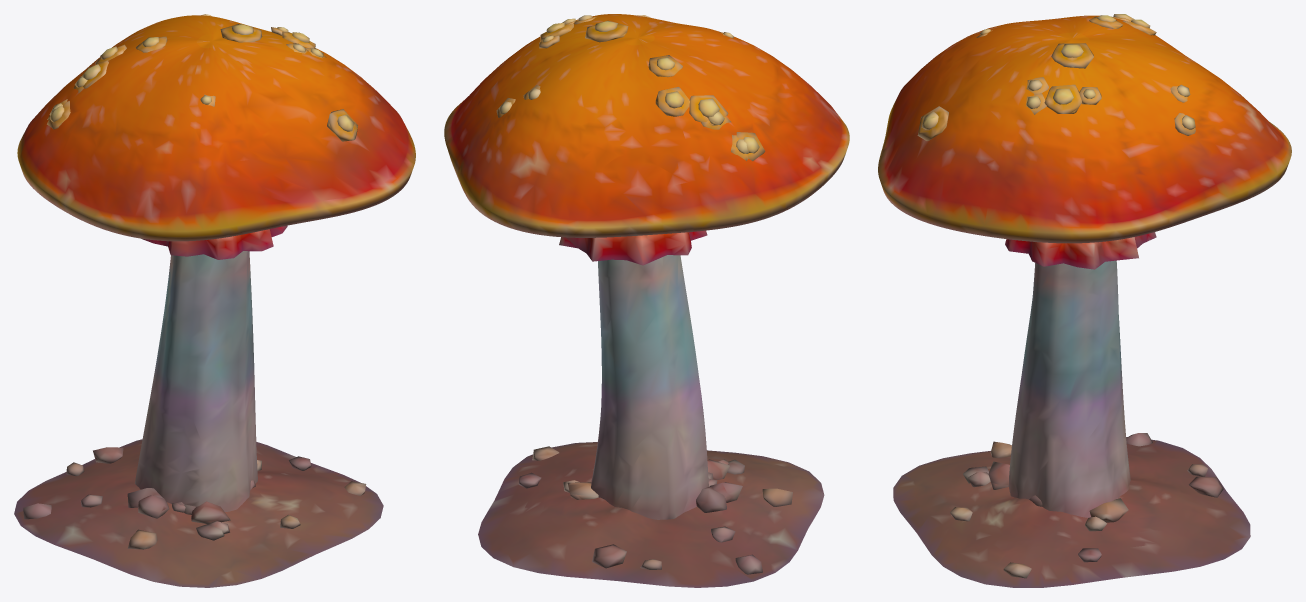
File: mantar_orta.glb
3 views of the same model, side by side, from view 1: azimuth 30°, elevation 25°; view 2: azimuth 150°, elevation 25°; view 3: azimuth 270°, elevation 25° (orthographic). The views are drawn at different scales.
Visible parts, largest first — view 1: mantar_orta_LOD0; view 2: mantar_orta_LOD0; view 3: mantar_orta_LOD0.
Boxes of the visible parts, x1,y1,x2,y2 form: mantar_orta_LOD0: (14, 14, 415, 587); mantar_orta_LOD0: (444, 14, 849, 587); mantar_orta_LOD0: (878, 14, 1291, 587).
Size of what is drawn, in the model's own units: 5.82 by 7.73 by 5.9.
